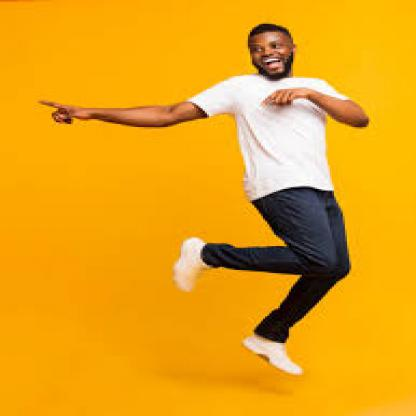Right: (29, 82, 108, 140)
